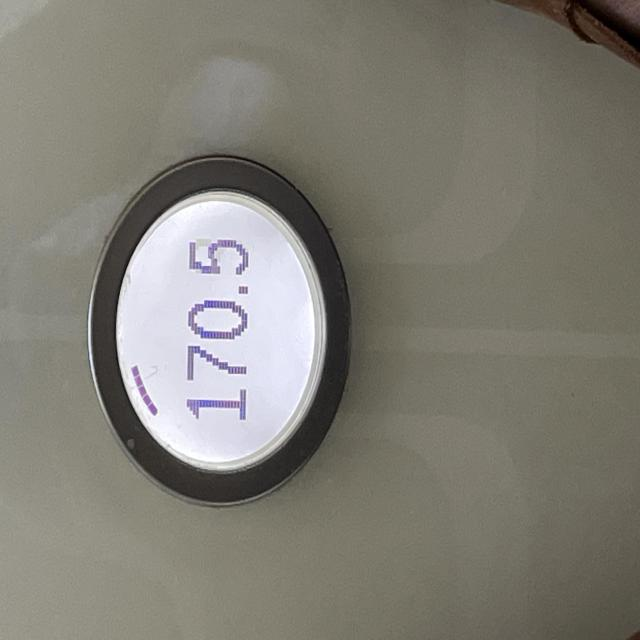ws: (86, 156, 352, 512)
